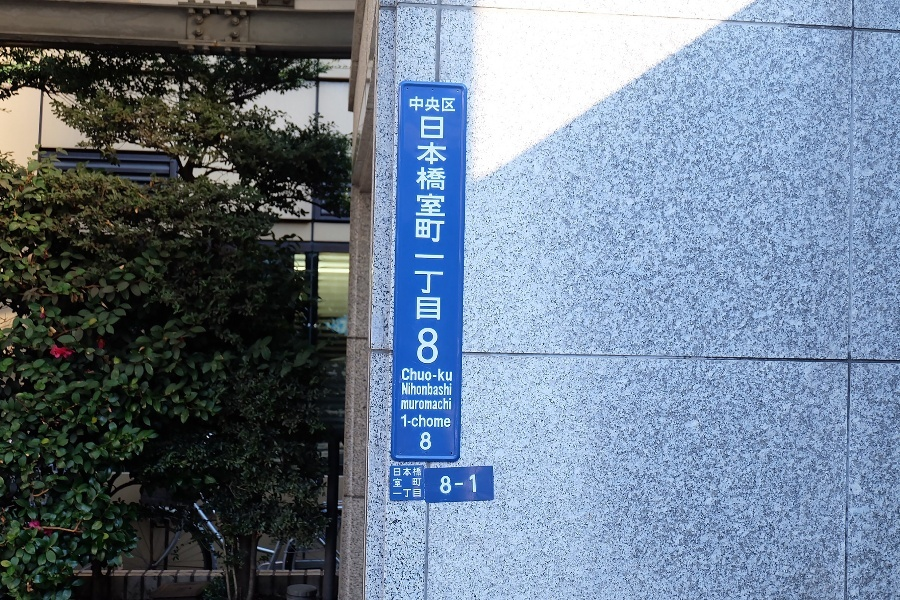text: (417, 115, 432, 366), (433, 115, 448, 366), (449, 474, 464, 495), (417, 96, 432, 113), (433, 96, 448, 113), (465, 474, 477, 495), (417, 368, 432, 383), (433, 368, 448, 383), (401, 414, 416, 429), (417, 414, 432, 429), (433, 414, 448, 429), (402, 368, 416, 383), (401, 397, 416, 411), (417, 397, 432, 411), (433, 397, 448, 411), (421, 432, 432, 451), (417, 383, 432, 396), (433, 383, 448, 396), (402, 383, 416, 396), (440, 474, 448, 495), (401, 467, 416, 477), (401, 478, 416, 488), (401, 489, 416, 498), (449, 96, 456, 113), (410, 96, 416, 113), (393, 478, 400, 488), (393, 489, 400, 498), (449, 368, 453, 383), (394, 467, 400, 477), (417, 467, 422, 477), (417, 478, 422, 488), (449, 397, 452, 411), (449, 383, 452, 396), (417, 489, 421, 498), (449, 414, 451, 429)
